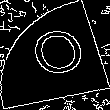O_S: (22, 25, 88, 85)
